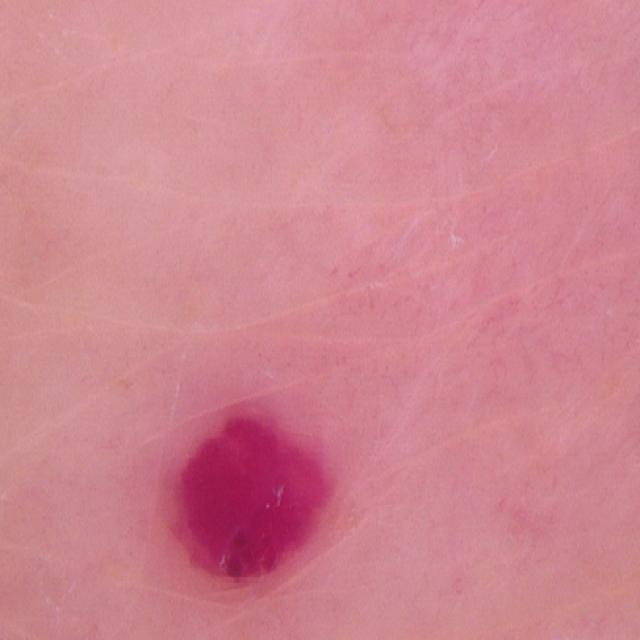Vascular Lesions: (155, 387, 392, 640)
